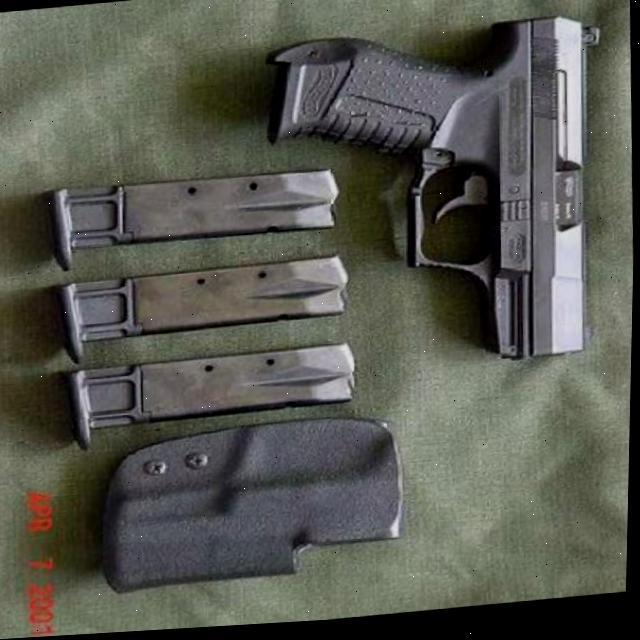gun: (258, 16, 616, 390)
